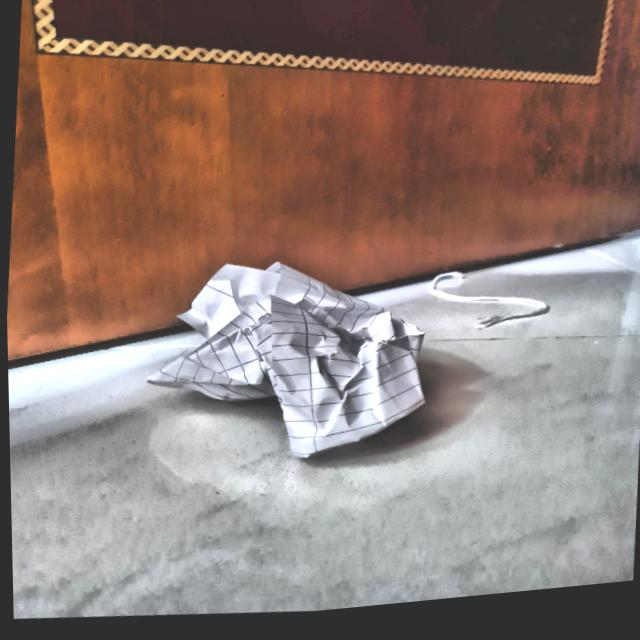Paper: (150, 243, 432, 491)
